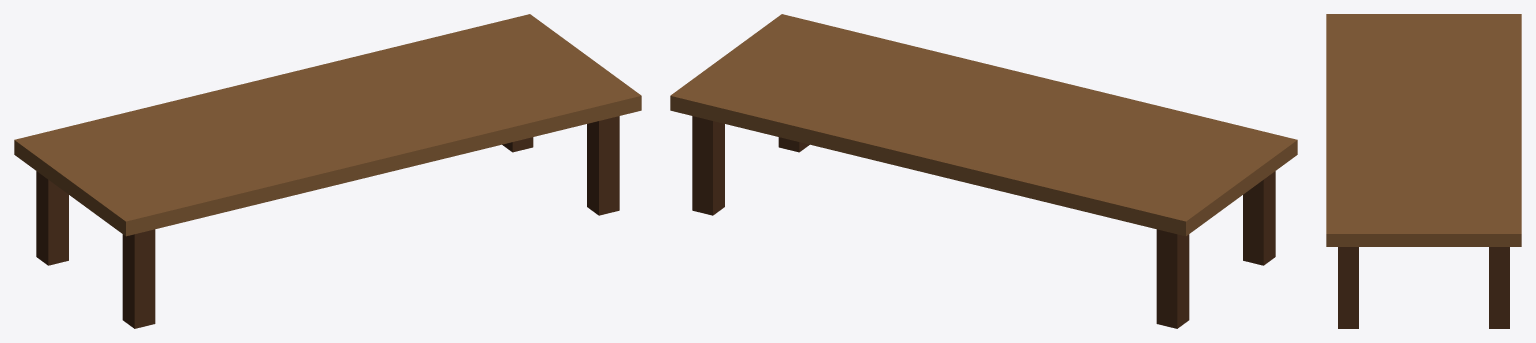
File: ld-study-table.glb
3 views of the same model, side by side, from view 1: azimuth 30°, elevation 25°; view 2: azimuth 150°, elevation 25°; view 3: azimuth 270°, elevation 25° (orthographic). The views are drawn at different scales.
Visible parts, largest first — view 1: box-prop; view 2: box-prop; view 3: box-prop.
Boxes of the visible parts, left/top/right/bottom form: box-prop: left=14, top=14, right=641, bottom=328; box-prop: left=670, top=14, right=1297, bottom=328; box-prop: left=1326, top=14, right=1521, bottom=328.
Size of the model in its own units: 4 by 0.86 by 1.5.
